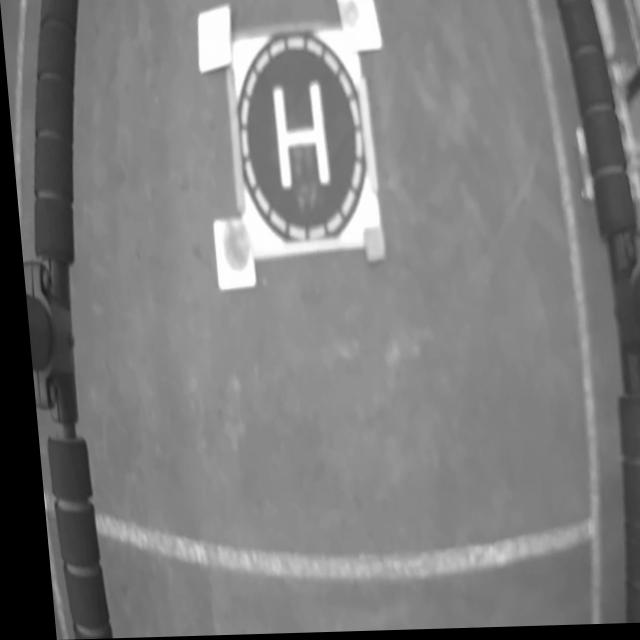Helipad: (271, 83, 327, 192)
